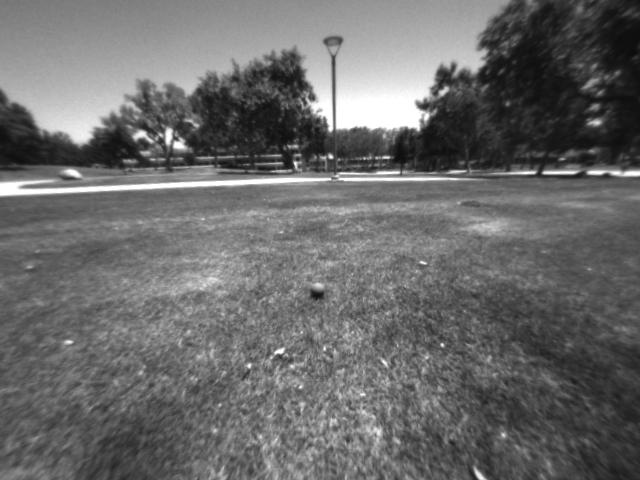dogtoy: (304, 274, 337, 307)
